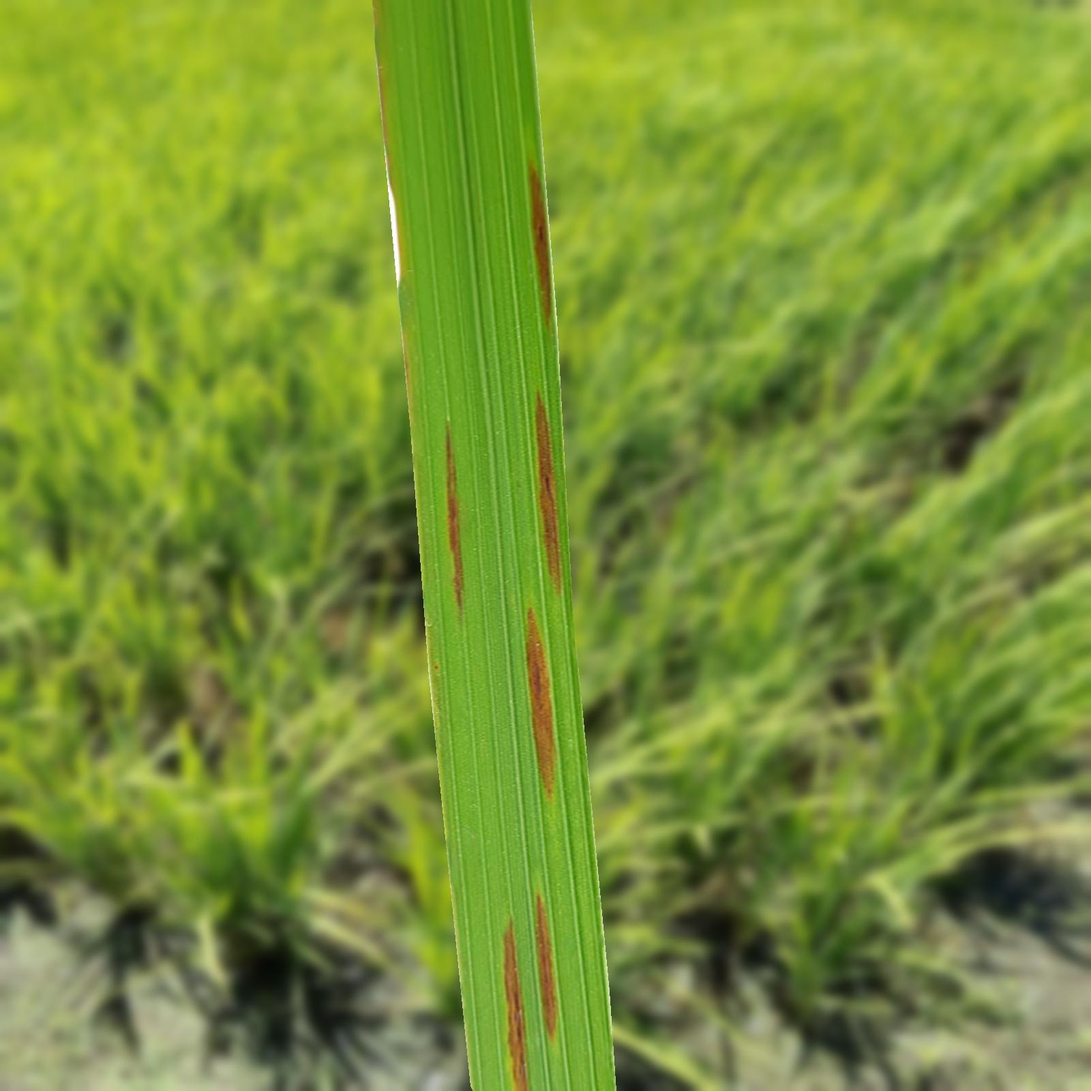LEAF: (372, 0, 616, 1090)
